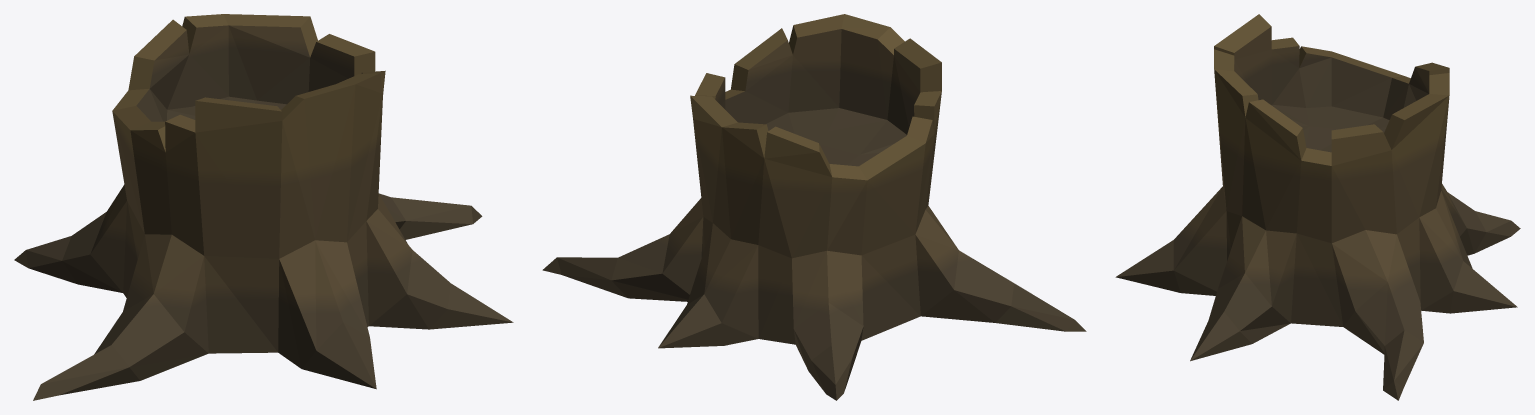
File: um_treeold001.FBX
The picture shows the model from 3 angles, left to right: view 1: azimuth 30°, elevation 25°; view 2: azimuth 150°, elevation 25°; view 3: azimuth 270°, elevation 25°; orthographic projection. The views are drawn at different scales.
Visible parts, largest first — view 1: um_treeold001; view 2: um_treeold001; view 3: um_treeold001.
Boxes of the visible parts, <box> form: um_treeold001: <box>14,14,513,400</box>; um_treeold001: <box>542,14,1086,400</box>; um_treeold001: <box>1115,14,1520,400</box>.
Bounding box in the file's own units: 1.54 × 0.7407 × 1.17.
